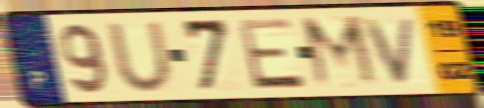7: (182, 17, 232, 94)
9: (58, 20, 110, 95)
E: (234, 16, 309, 92)
M: (297, 13, 385, 91)
U: (103, 19, 178, 94)
V: (362, 15, 420, 86)
